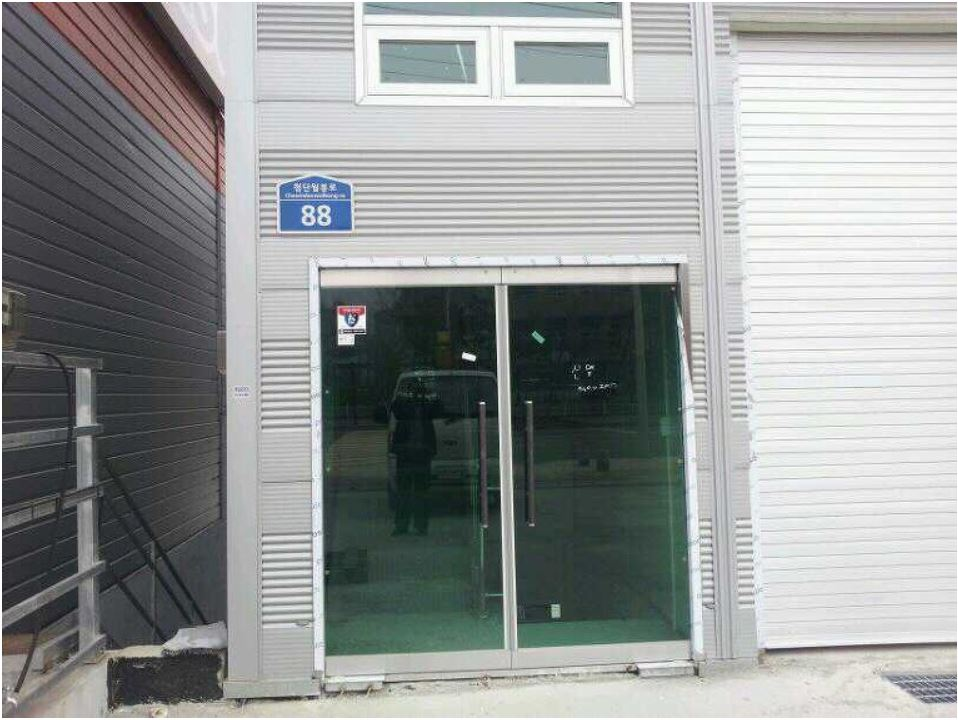building_license_plate1: (276, 173, 354, 236)
